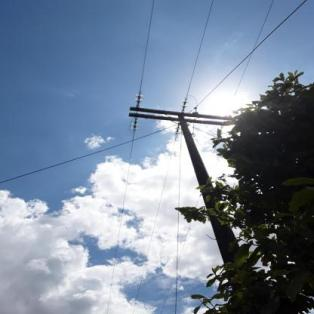Poste: (175, 104, 278, 314)
